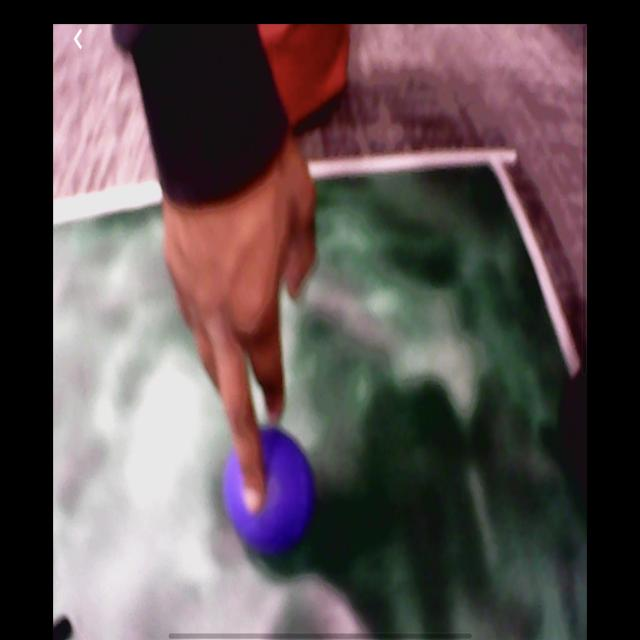ball: (220, 425, 316, 555)
